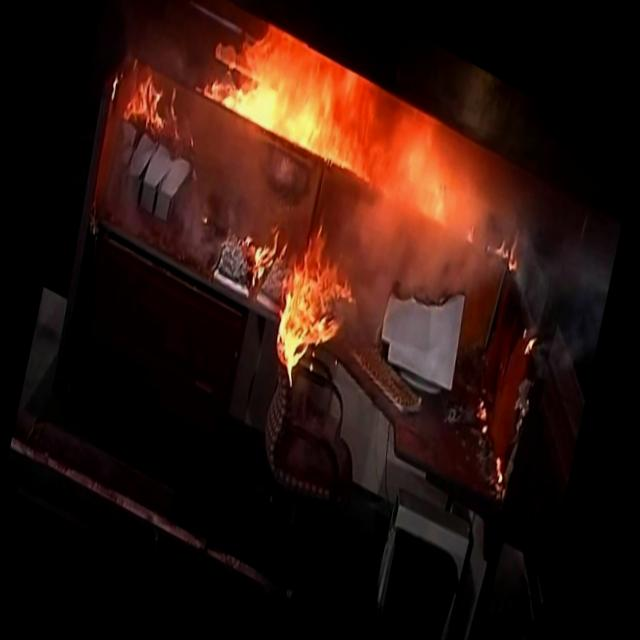fire: (208, 11, 484, 266), (263, 221, 360, 393)
